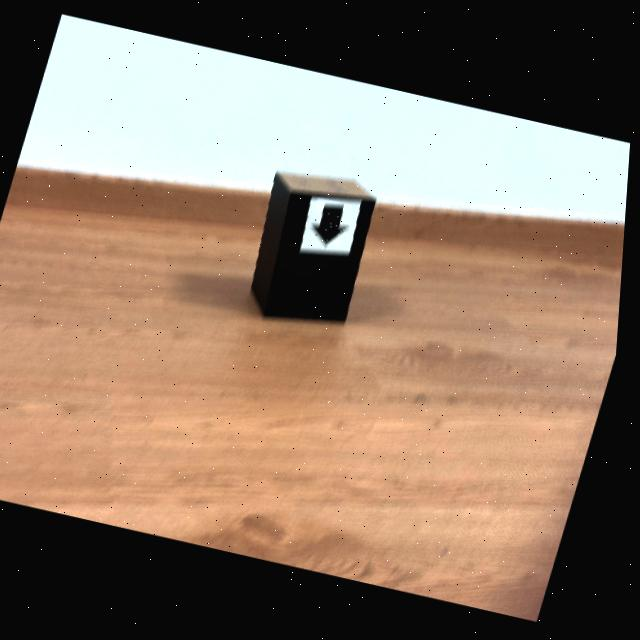DOWN: (313, 205, 350, 247)
